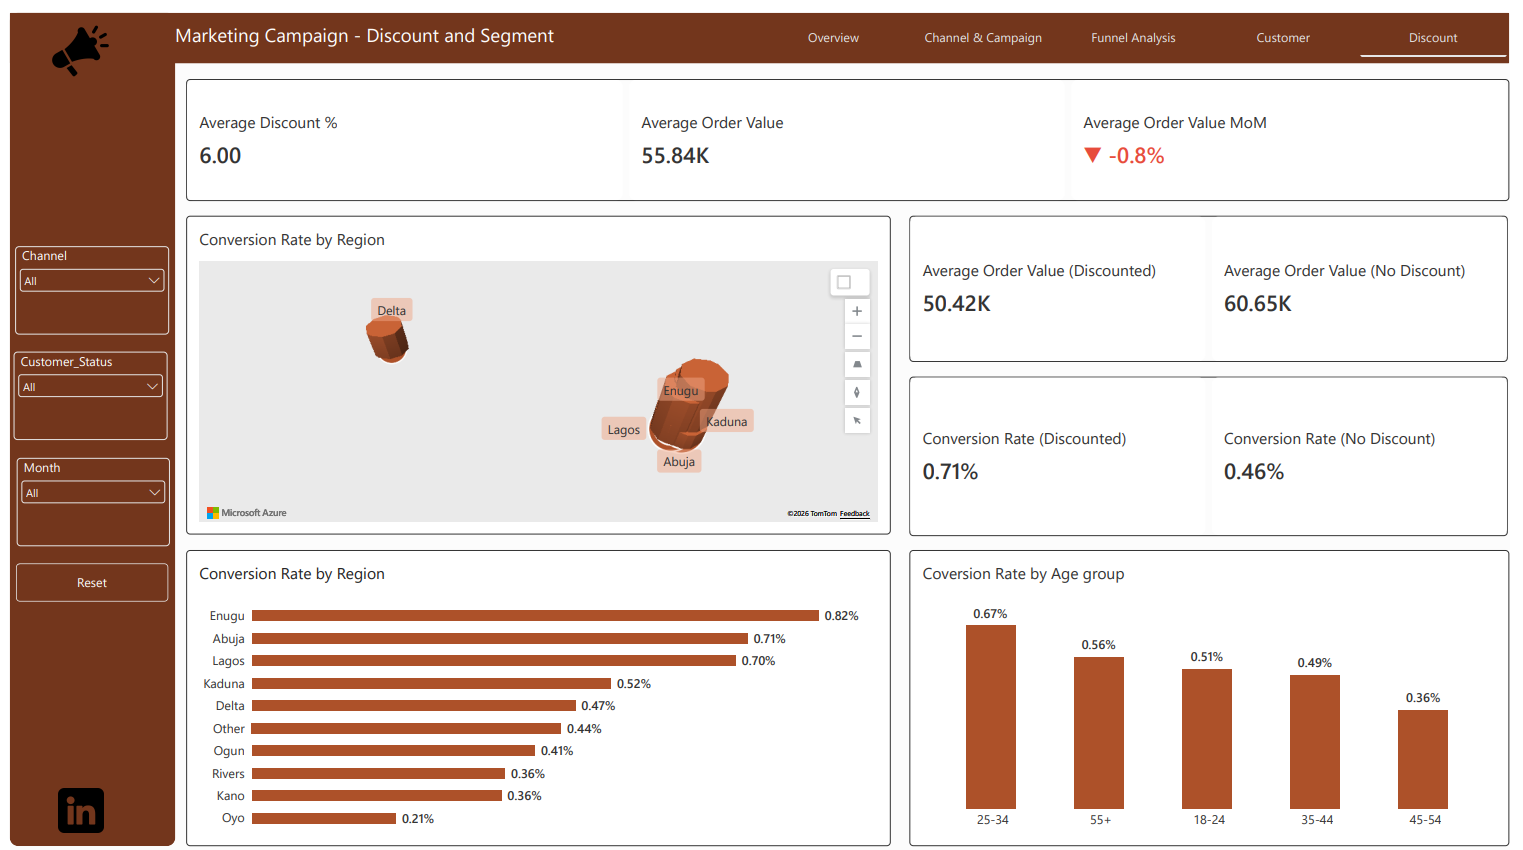

This screenshot's page, from the dashboard's own definition file:
{"tool":"powerbi","page":{"name":"Discount","canvas":[1920,1080],"ordinal":4},"visuals":[{"type":"shape","box":[0,0,212.3,1066.8],"z":0},{"type":"shape","box":[0,0,1919.6,65.1],"z":1000},{"type":"textbox","box":[212.3,12,611.3,39.4],"z":2000},{"type":"cardVisual","fields":{"Data":["Measures Page 1.Average Discount %","Measures Page 1.AOV","Measures Page 1.AOV MoM % Change"]},"box":[226,85,1693.5,155.8],"z":3000},{"type":"azureMap","title":"Conversion Rate by Region","fields":{"Category":["Interactions.Region"],"Size":["Measures Page 1.Overall Conversion Rate"]},"box":[226,260.3,902.4,407.5],"z":4000},{"type":"columnChart","title":"Coversion Rate by Age group","fields":{"Category":["Interactions.Age_Group"],"Y":["Measures Page 1.Overall Conversion Rate"]},"box":[1152.4,688.4,767.1,378.4],"z":5000},{"type":"slicer","fields":{"Values":["Campaigns.Channel"]},"box":[7.1,299.4,196.9,113],"z":7000},{"type":"slicer","fields":{"Values":["Interactions.Customer_Status"]},"box":[5.4,434.5,196.9,113],"z":8000},{"type":"image","box":[61.6,993.2,58.2,56.5],"z":9000},{"type":"image","box":[34.2,12,113,73.6],"z":10000},{"type":"slicer","fields":{"Values":["Calendar Date.Month Name"]},"box":[8.6,569.6,196.9,113],"z":11000},{"type":"pageNavigator","box":[960.6,6.8,958.9,49.7],"z":12000},{"type":"cardVisual","fields":{"Data":["Measures Page 1.Average Order Value (Discounted)","Measures Page 1.Average Order Value (No Discount)"]},"box":[1152.4,260.3,765.4,186.6],"z":12001},{"type":"cardVisual","fields":{"Data":["Measures Page 1.Conversion Rate (Discounted)","Measures Page 1.Conversion Rate (No Discount)"]},"box":[1152.4,465.8,765.4,203.8],"z":12002},{"type":"barChart","title":"Conversion Rate by Region","fields":{"Category":["Interactions.Region"],"Y":["Measures Page 1.Overall Conversion Rate"]},"box":[226,688.4,902.4,378.4],"z":12003},{"type":"actionButton","box":[8.3,704.6,195.2,49.7],"z":12004}]}

Visuals, with their boxes in screenshot pixels (x1, y1, x2, y2), scaled from the page's 1920x1080 canvas onto the 1523x850 screenshot:
shape: rect(0, 0, 168, 840)
shape: rect(0, 0, 1522, 51)
textbox: rect(168, 9, 653, 40)
cardVisual - Measures Page 1.Average Discount % x Measures Page 1.AOV: rect(179, 67, 1522, 190)
"Conversion Rate by Region" azureMap: rect(179, 205, 895, 526)
"Coversion Rate by Age group" columnChart: rect(914, 542, 1522, 840)
slicer - Campaigns.Channel: rect(6, 236, 162, 325)
slicer - Interactions.Customer_Status: rect(4, 342, 160, 431)
image: rect(49, 782, 95, 826)
image: rect(27, 9, 117, 67)
slicer - Calendar Date.Month Name: rect(7, 448, 163, 537)
pageNavigator: rect(762, 5, 1522, 44)
cardVisual - Measures Page 1.Average Order Value (Discounted) x Measures Page 1.Average Order Value (No Discount): rect(914, 205, 1521, 352)
cardVisual - Measures Page 1.Conversion Rate (Discounted) x Measures Page 1.Conversion Rate (No Discount): rect(914, 367, 1521, 527)
"Conversion Rate by Region" barChart: rect(179, 542, 895, 840)
actionButton: rect(7, 555, 161, 594)
